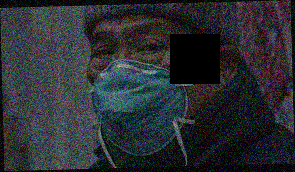with_mask: (87, 17, 217, 138)
